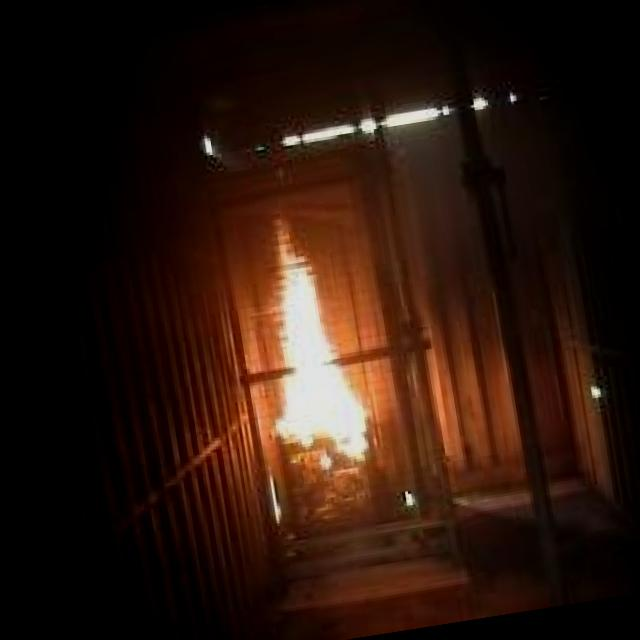fire: (217, 209, 390, 500)
